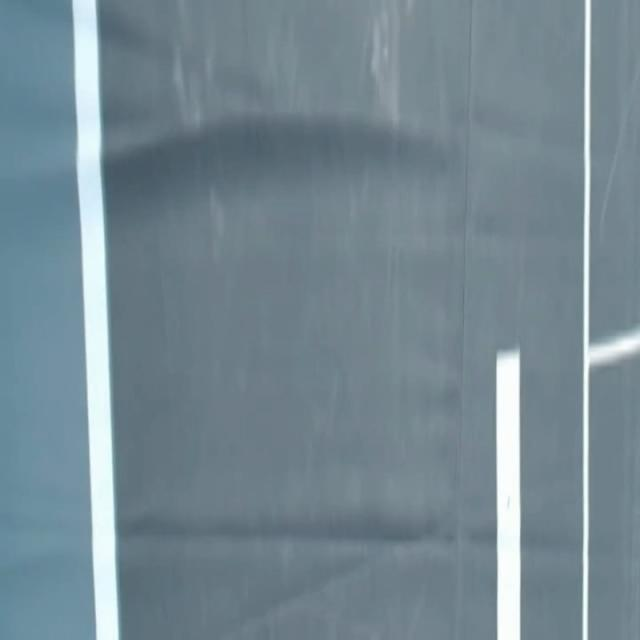center: (497, 350, 520, 639)
left: (72, 0, 119, 639)
